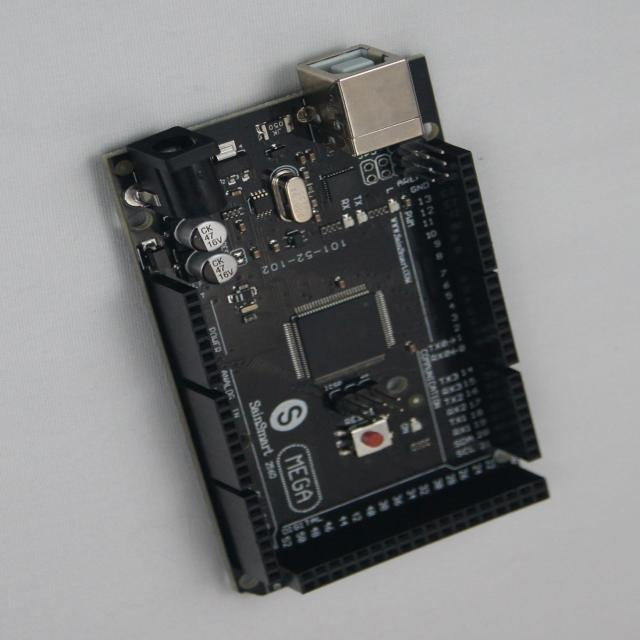Arduino Mega 2560 -Black-: (107, 47, 548, 594)
